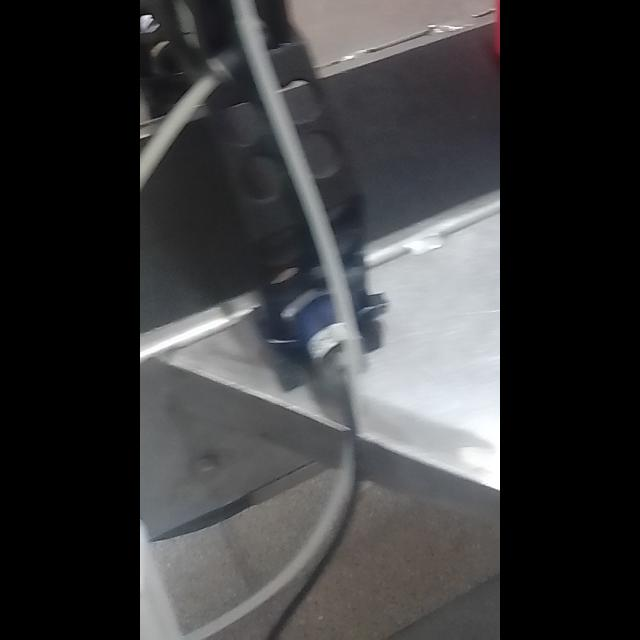redBox: (486, 0, 500, 126)
